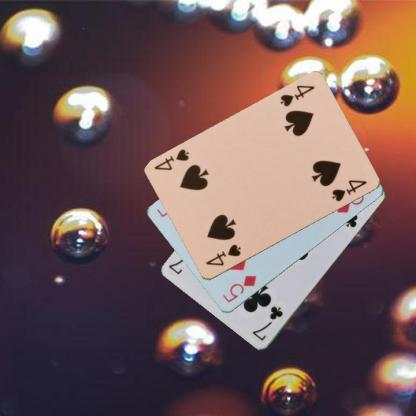4s: (203, 242, 242, 268), (277, 82, 316, 108)
5d: (220, 272, 258, 304)
7c: (250, 304, 284, 343)
